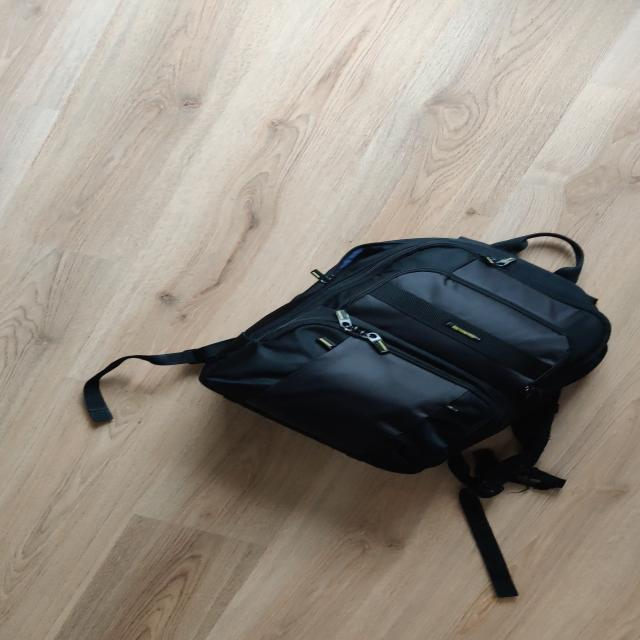backpack: (193, 223, 630, 499)
